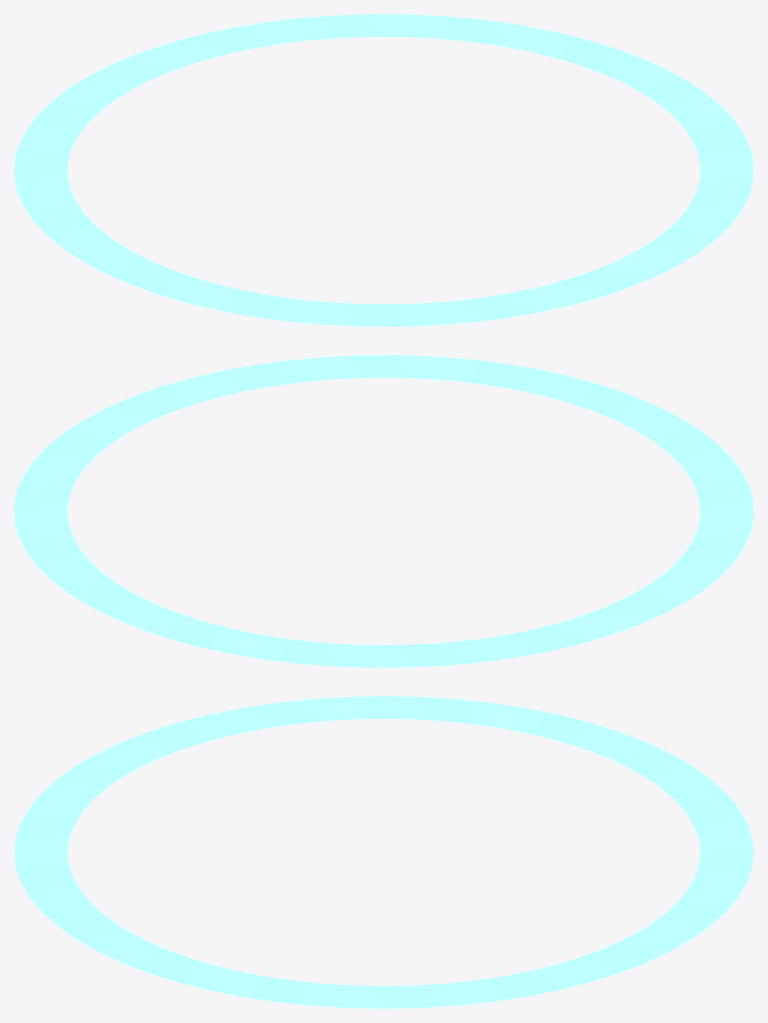
Rendered from drone_ring.glb.
The picture shows the model from 3 angles, top to bottom: view 1: azimuth 30°, elevation 25°; view 2: azimuth 150°, elevation 25°; view 3: azimuth 270°, elevation 25°; orthographic projection.
Visible parts, largest first — view 1: drone_ring; view 2: drone_ring; view 3: drone_ring.
Part boxes in pixels (bbox=[...]): drone_ring: bbox=[14, 14, 753, 326]; drone_ring: bbox=[14, 355, 753, 667]; drone_ring: bbox=[14, 696, 753, 1008].
Bounding box in the file's own units: 1.08 × 1.44e-17 × 1.08.
